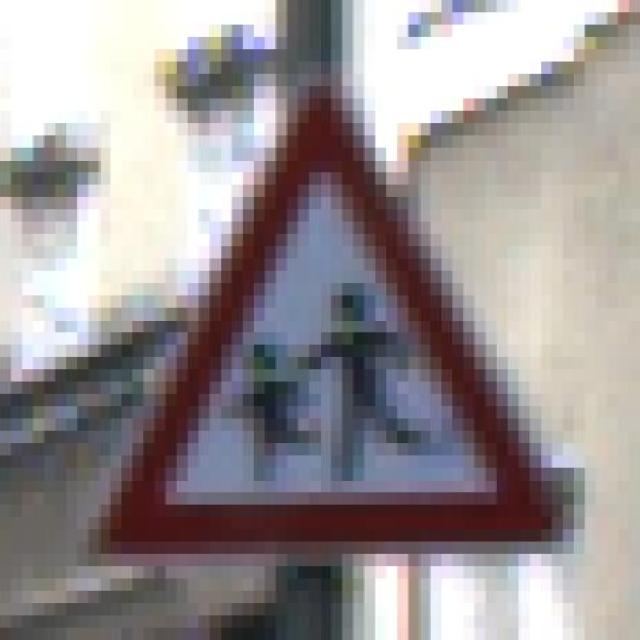Beware of children: (77, 74, 574, 554)
